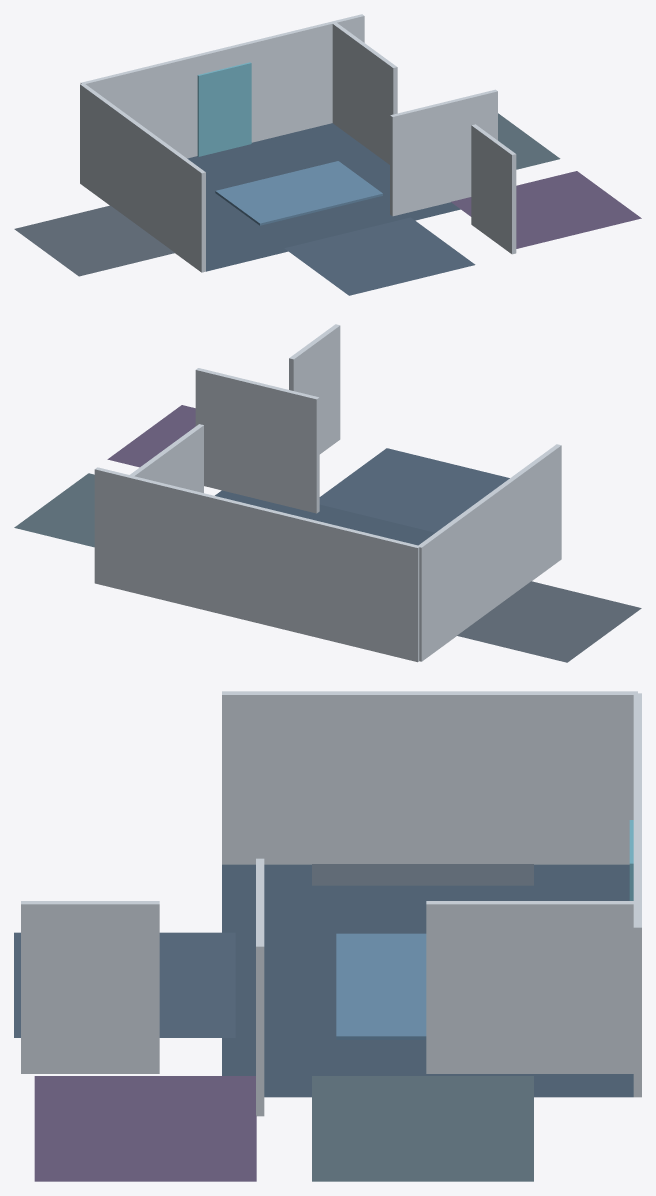
Rendered from house.glb.
The picture shows the model from 3 angles, top to bottom: view 1: azimuth 30°, elevation 25°; view 2: azimuth 150°, elevation 25°; view 3: azimuth 270°, elevation 25°; orthographic projection. The views are drawn at different scales.
Visible parts, largest first — view 1: area__living_room, area__living_annex, area__office, area__garage, door__back, area__kitchen; view 2: area__living_room, area__living_annex, area__garage, area__kitchen, area__office; view 3: area__living_room, area__office, area__kitchen, area__living_annex, area__garage.
Part boxes in pixels (x1,y1,x2,y2): area__living_room: (80, 14, 516, 272); area__living_annex: (284, 217, 475, 295); area__office: (451, 171, 641, 248); area__garage: (14, 205, 174, 276); door__back: (197, 62, 251, 156); area__kitchen: (498, 113, 560, 169); area__living_room: (94, 324, 561, 662); area__living_annex: (319, 448, 509, 532); area__garage: (457, 581, 641, 662); area__kitchen: (14, 473, 94, 547); area__office: (107, 405, 195, 467); area__living_room: (21, 691, 641, 1116); area__office: (34, 1076, 256, 1181); area__kitchen: (312, 1076, 533, 1181); area__living_annex: (14, 932, 235, 1037); area__garage: (312, 864, 533, 885).
Bounding box in the file's own units: 13.7 × 2.7 × 9.06.
